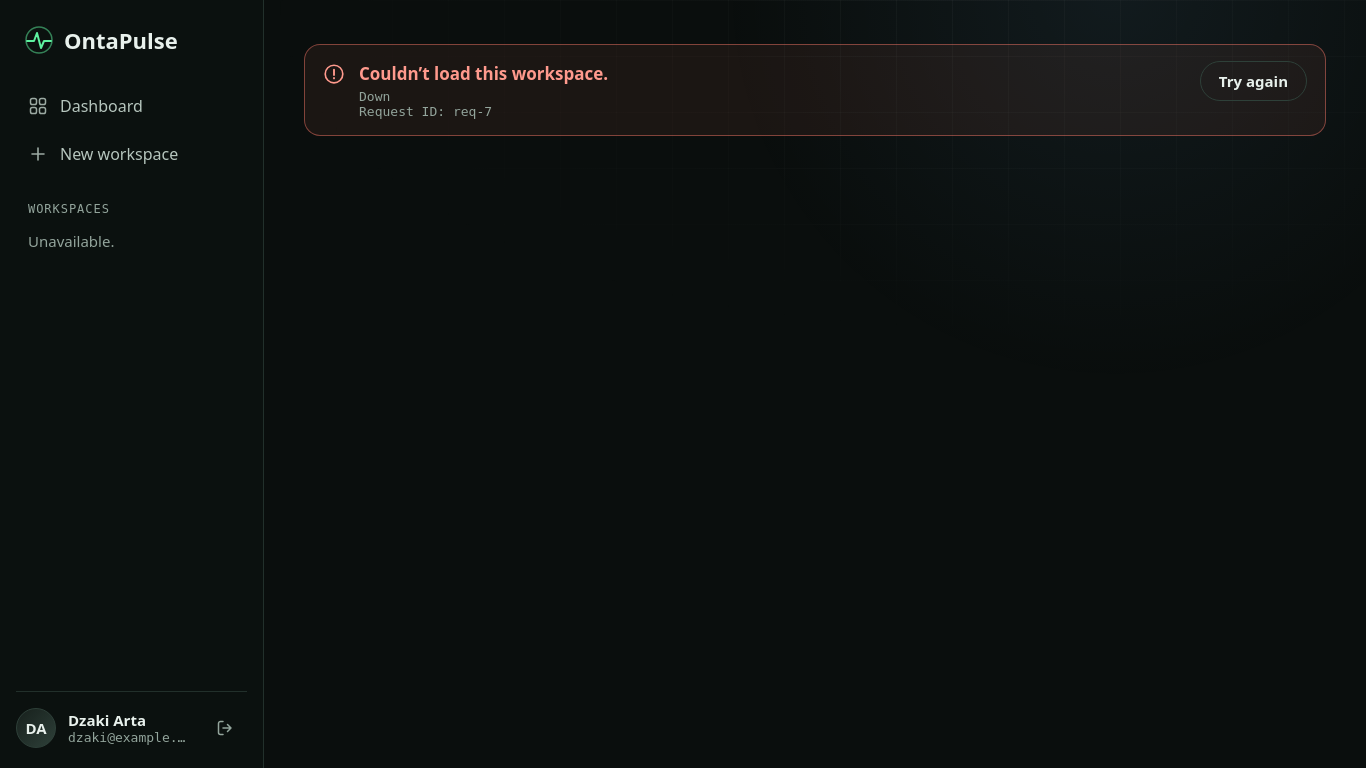
Test: WorkspacePage › shows the error banner with the request id and retries
Expected: the text "Couldn’t load this workspace." is shown, [359,61,608,86]
Expected: the text "Request ID: req-7" is shown, [359,104,492,118]
Click the button "Try again": (1253, 81) [1200,61,1307,101]
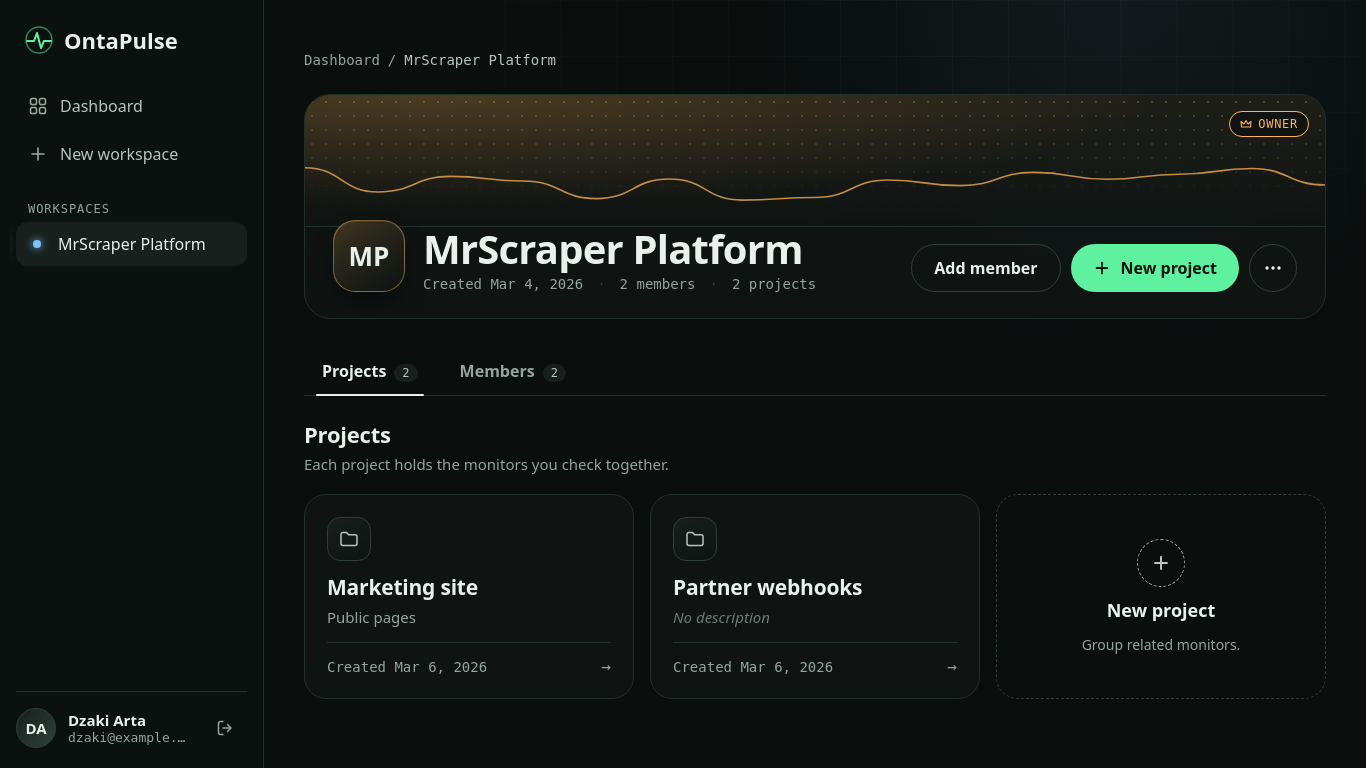
Result: the heading "MrScraper Platform" is shown at [423,227,816,270]
